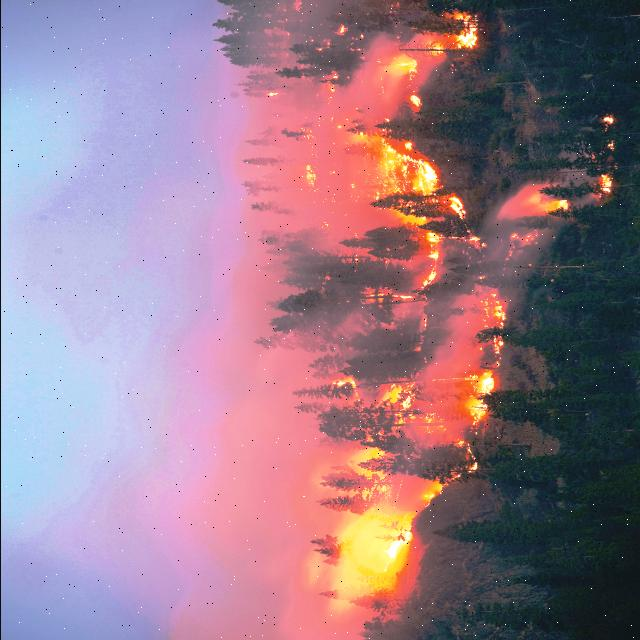api: (353, 527, 420, 575), (397, 155, 444, 199), (419, 231, 444, 285), (445, 17, 483, 51), (477, 290, 508, 327), (297, 155, 323, 196), (469, 370, 496, 404), (371, 384, 412, 404), (589, 177, 620, 197), (399, 92, 428, 110), (385, 287, 420, 301), (389, 58, 423, 72), (448, 195, 468, 218), (417, 490, 443, 502), (341, 379, 356, 396), (553, 201, 572, 210)
asap: (31, 468, 251, 640), (259, 429, 391, 640), (209, 248, 309, 374), (233, 2, 308, 112)
